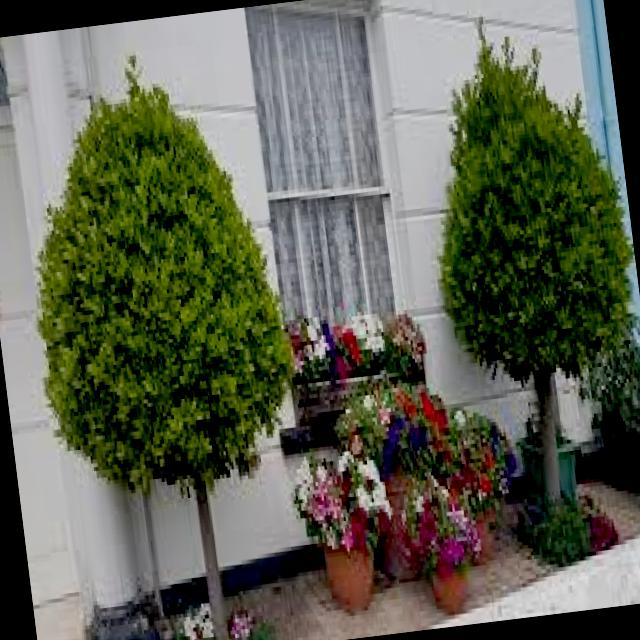foliage: (31, 54, 297, 640), (435, 18, 635, 501)
